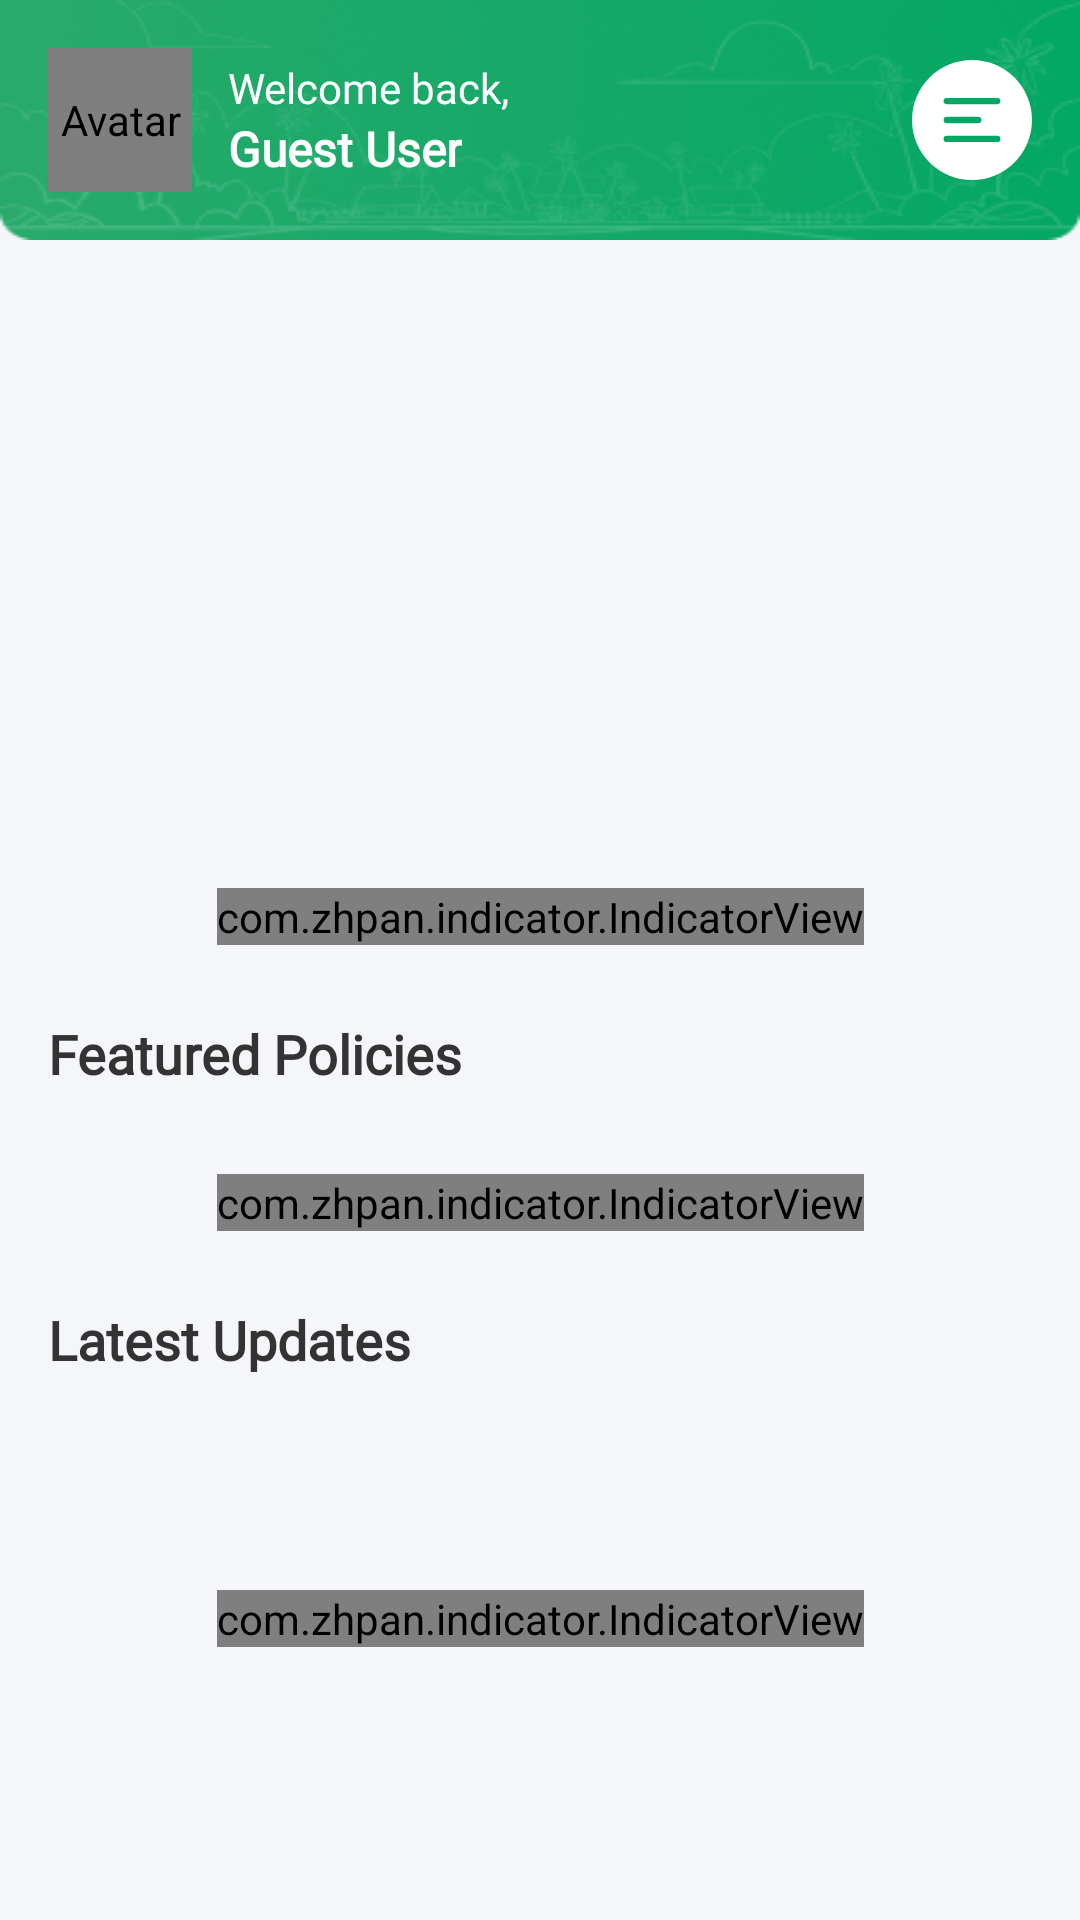

Where to tap for icons on this 1080x1920 app screen, as (x=x, y=y):
Menu: (x=972, y=120)
